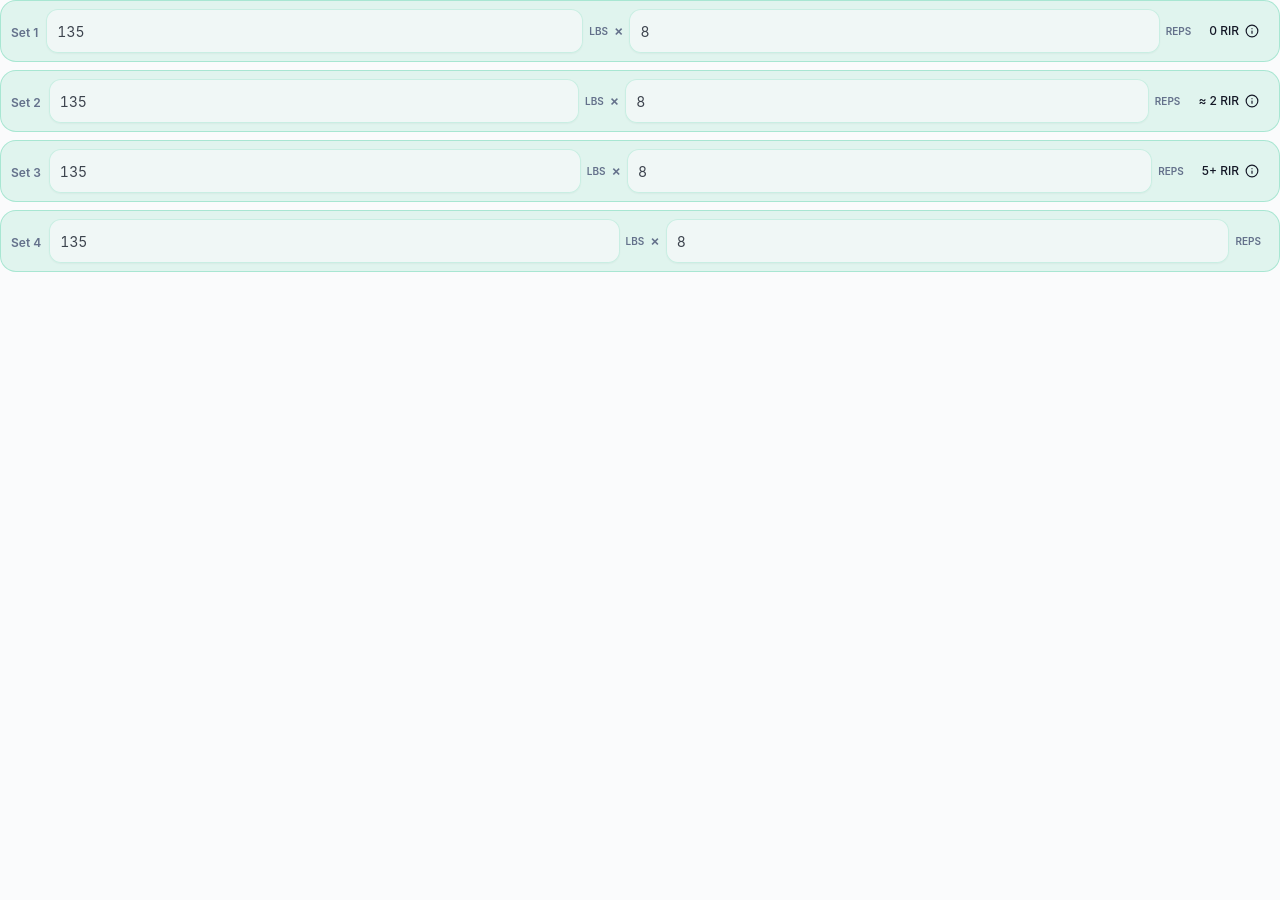
Test: shows completed native, legacy, and missing effort through the read-only display
This screenshot has width=1280, height=900.
Expected: the text "0 RIR" is shown, [1209, 23, 1239, 39]
Expected: the text "≈ 2 RIR" is shown, [1198, 93, 1239, 109]
Click the button with aria-label "Effort details: Set 2": (1229, 101) [1188, 79, 1269, 123]
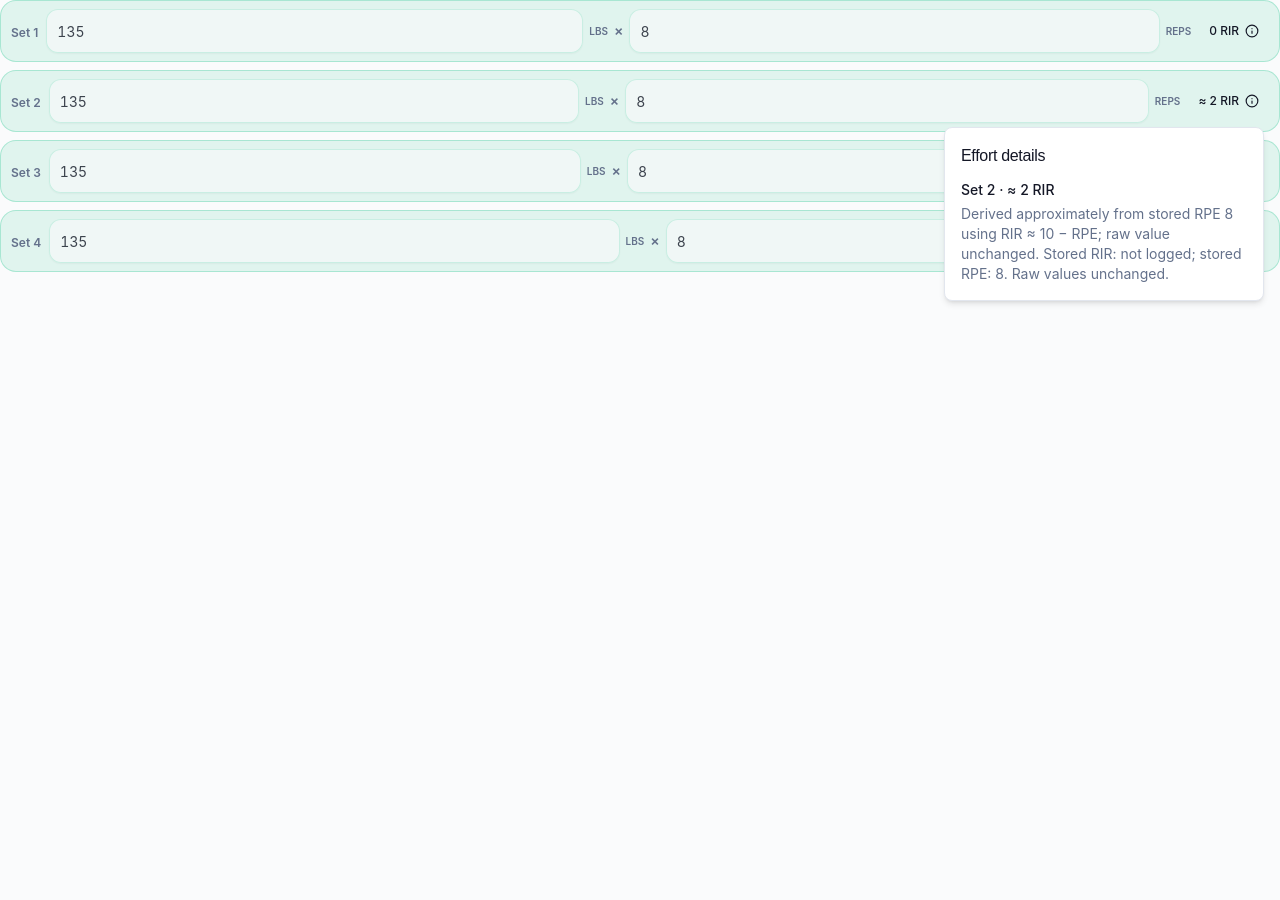
Now the dialog shows "Derived approximately from stored RPE 8", box [961, 205, 1242, 282]
